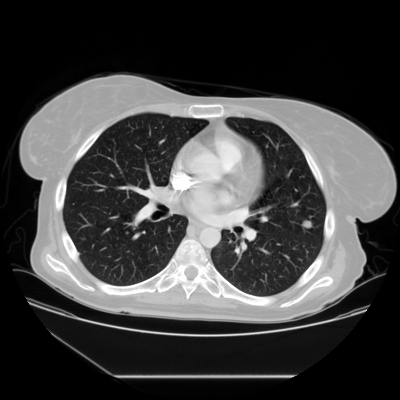nodule: (303, 220, 311, 228)
